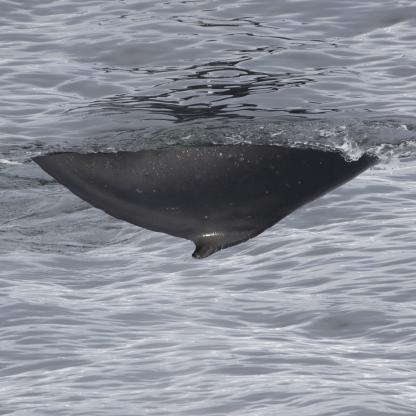dolphin-whale: (21, 143, 384, 263)
